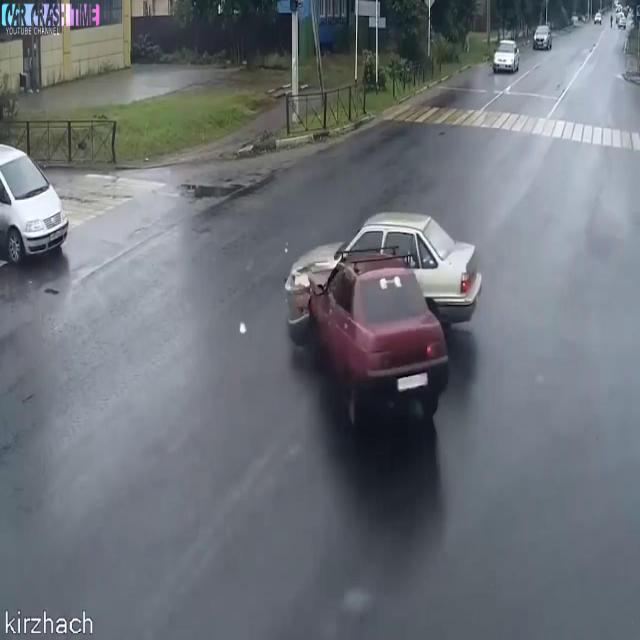accident: (275, 196, 489, 467)
